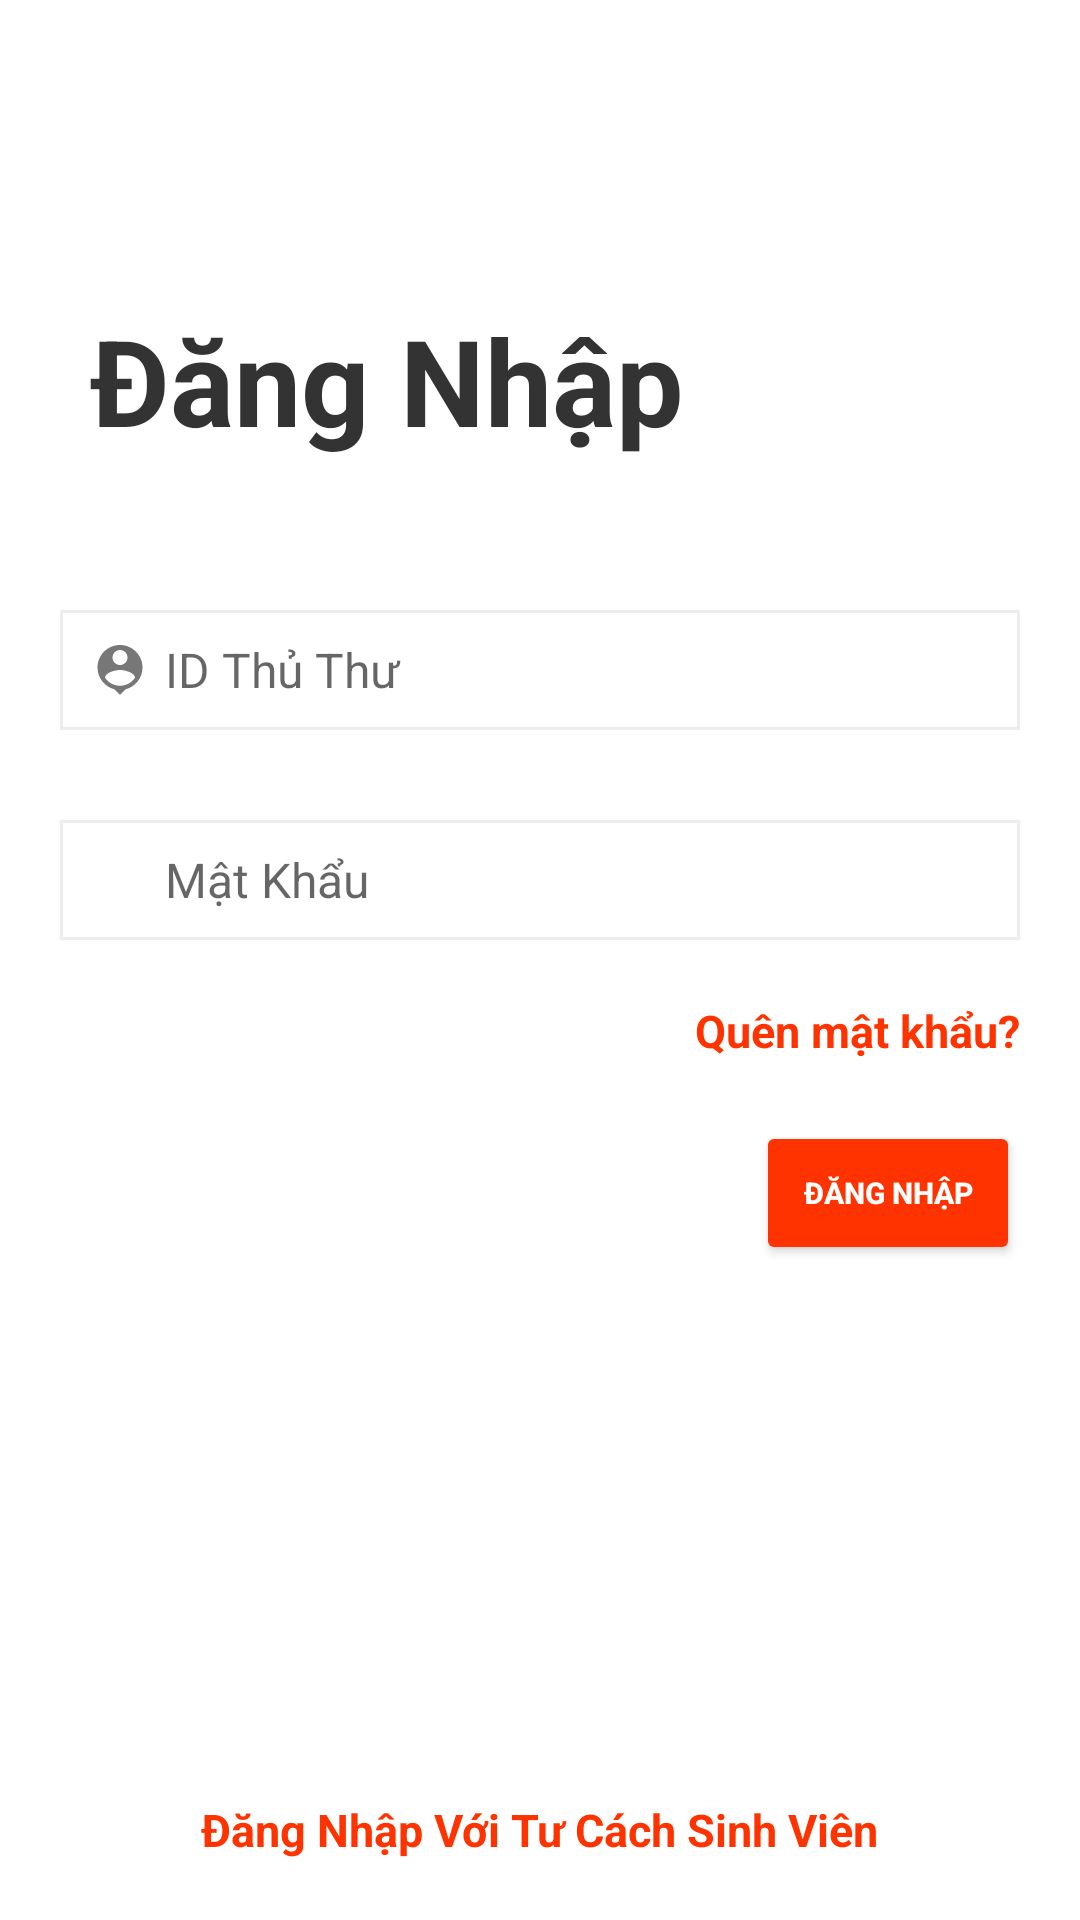

Icon click points for this 1080×1920 phone screenshot, format [x,y]:
person pin: [120,670]
